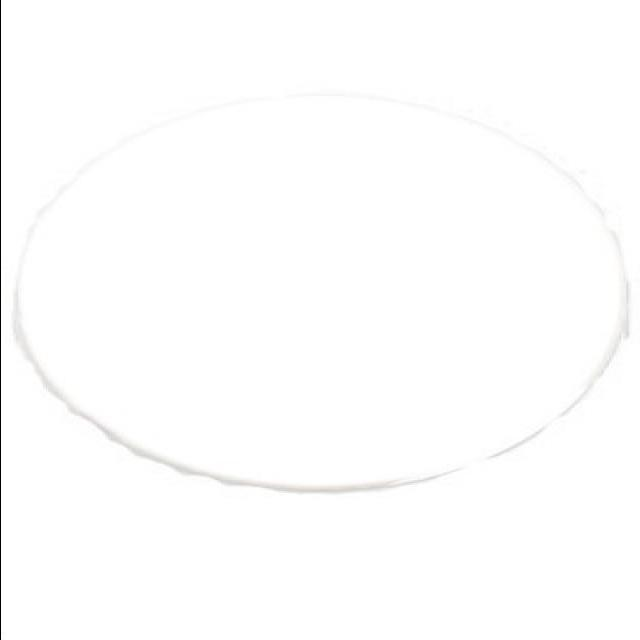Circle: (7, 83, 630, 492)
